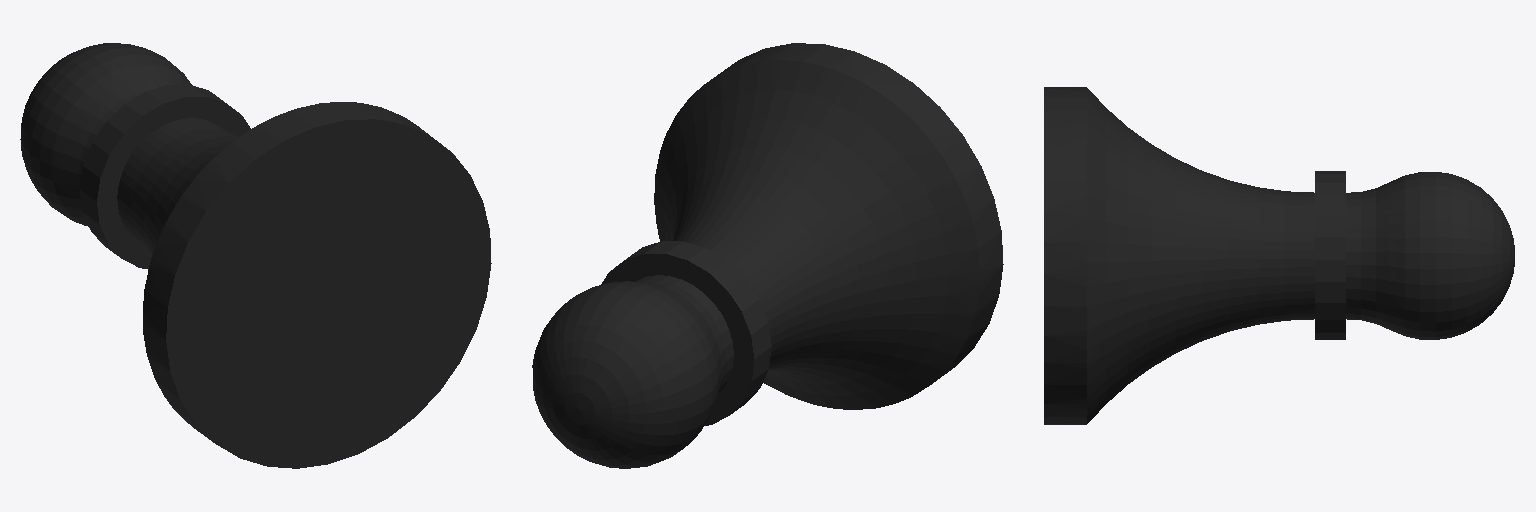
The robot description file, URDF, robot "pion":
<?xml version="1.0" encoding="utf-8"?>
<robot name="pion">
  <link name="base_link">
    <inertial>
      <origin xyz="5.55111512312578E-17 0.0106222958974551 -1.7055801215804E-14" rpy="0 0 0" />
      <mass value="0.00514941010722538" />
      <inertia
        ixx="5.74831681295525E-07" ixy="-3.26879966837887E-23" ixz="-2.97708148562947E-23"
        iyy="2.09083285069225E-07" iyz="2.66692949158579E-23"
        izz="5.74831681295525E-07" />
    </inertial>
    <visual>
      <origin xyz="0 0 0" rpy="0 0 0" />
      <geometry>
        <mesh filename="package://board_new/meshes/pion1.STL" />
      </geometry>
      <material name="">
        <color rgba="0.2 0.2 0.2 1" />
      </material>
    </visual>
    <collision>
      <origin xyz="0 0 0" rpy="0 0 0" />
      <geometry>
        <mesh filename="package://board_new/meshes/pion1.STL" />
      </geometry>
    </collision>
  </link>
  <gazebo reference="base_link">
    <mu1>0.5</mu1>
    <mu2>0.5</mu2>
    <material>Gazebo/DarkGrey</material>
  </gazebo>
</robot>

--- Facts derived from the render (not from the file) ---
3 views of the same robot in one strip: view 1: azimuth 30°, elevation 25°; view 2: azimuth 150°, elevation 25°; view 3: azimuth 270°, elevation 25° (orthographic).
Robot: pion — 1 links, 0 joints (none); root link base_link; default pose: all joints at 0.
Visible links, largest first — view 1: base_link; view 2: base_link; view 3: base_link.
Link boxes in pixels (box(x1,y1,x2,y2)): base_link: box(20, 43, 491, 468); base_link: box(532, 43, 1003, 468); base_link: box(1044, 87, 1514, 424).
Bounding box of the posed robot: 0.024 × 0.0334 × 0.024 m (x, y, z).
1 mesh visuals loaded from 1 distinct referenced files (1 binary STL).